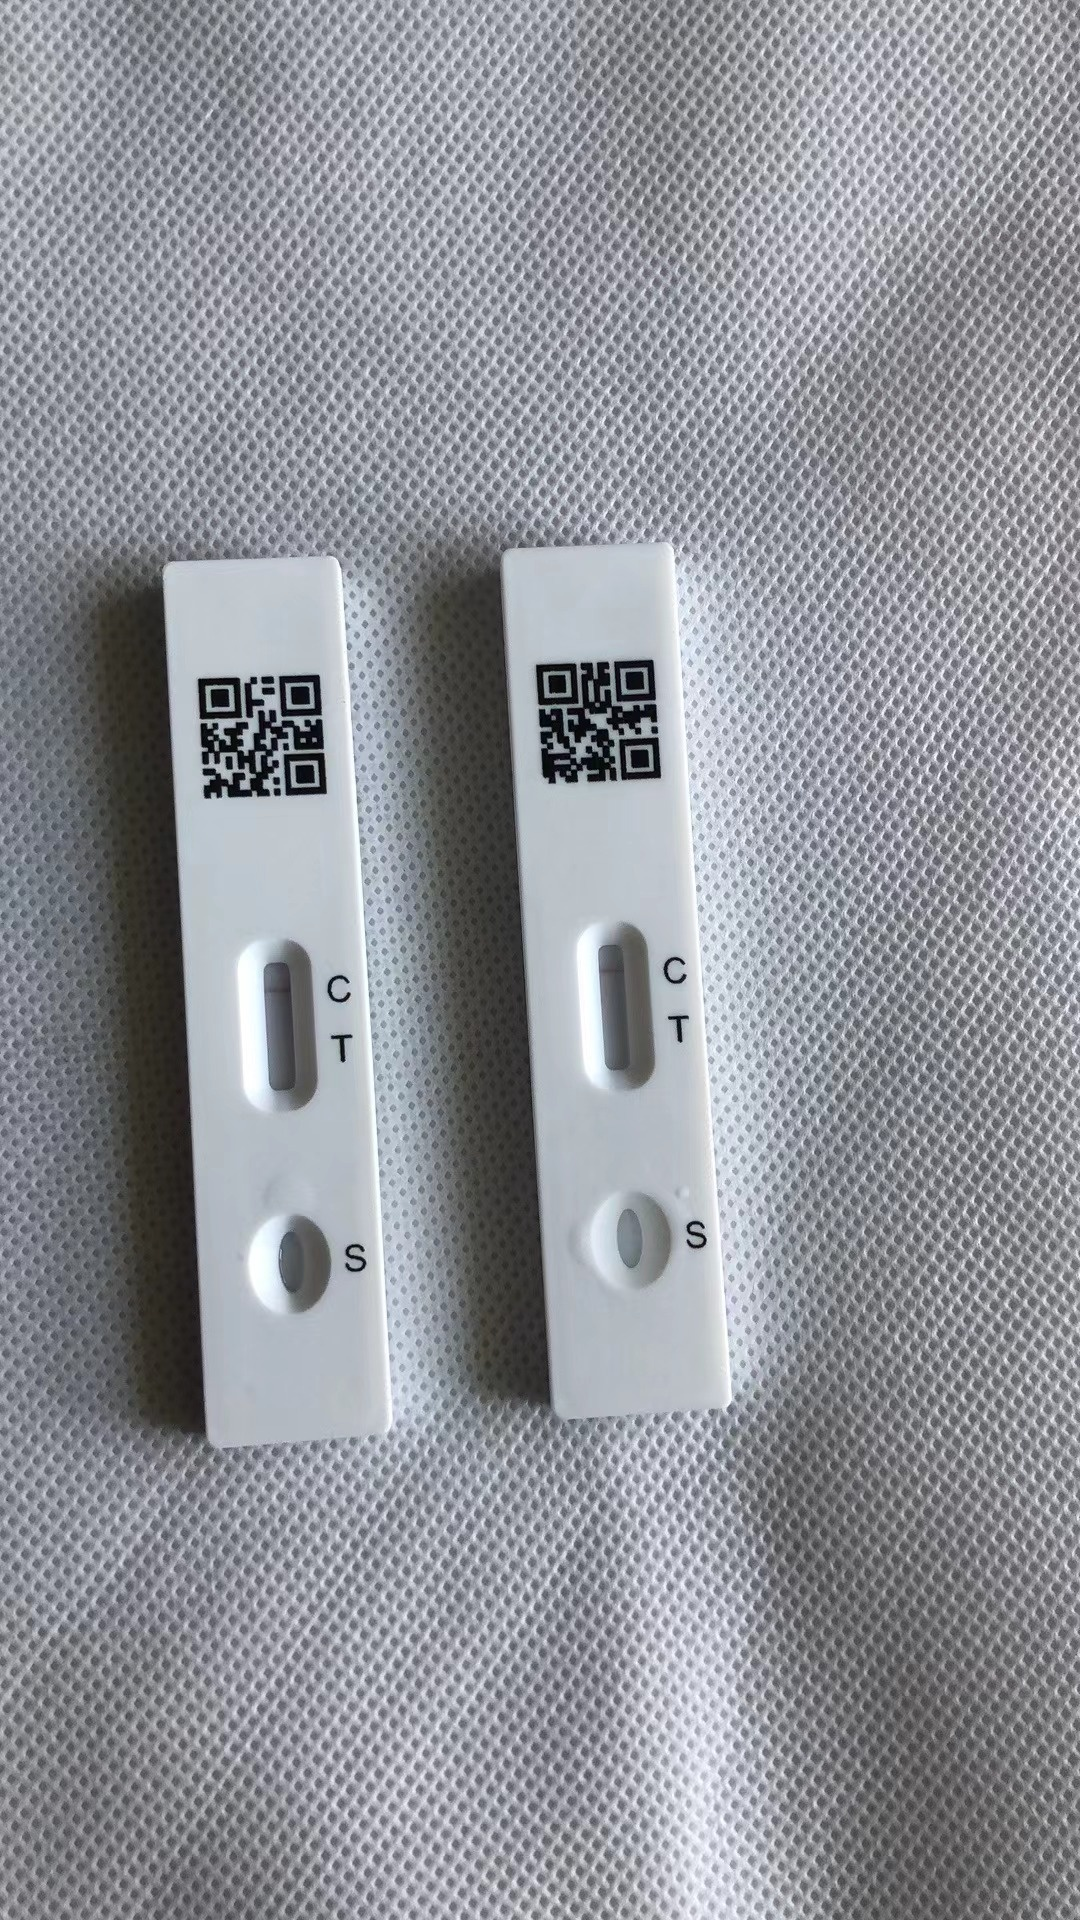negative: (237, 938, 319, 1116), (582, 922, 653, 1089)
